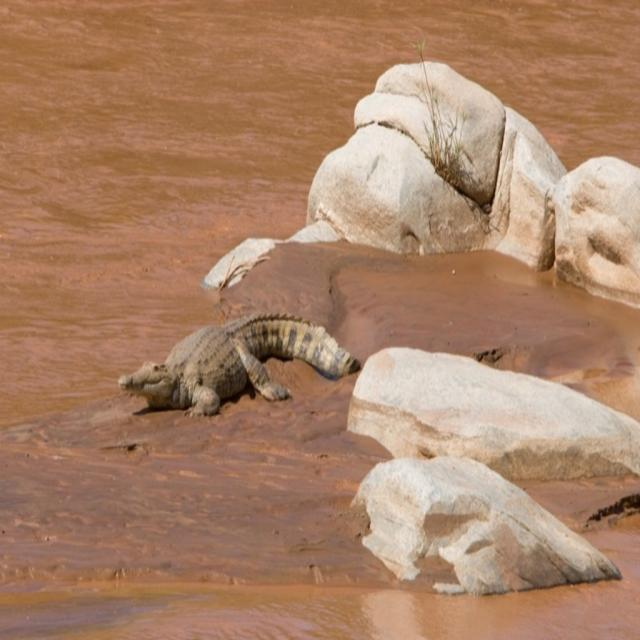crocodile: (107, 307, 361, 423)
